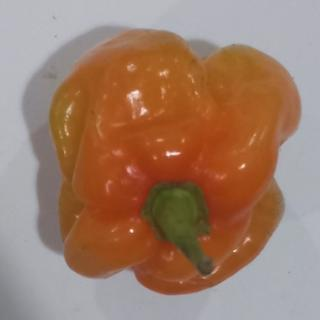Grade-B: (45, 23, 307, 295)
